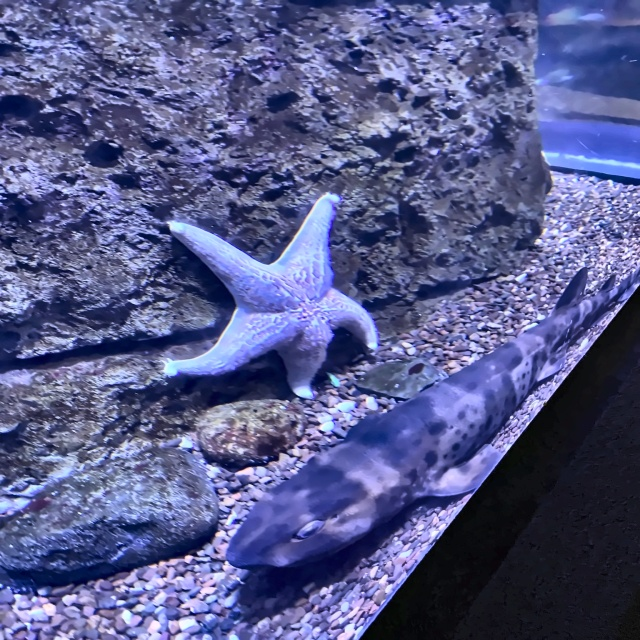shark: (229, 266, 639, 567)
starfish: (163, 193, 378, 399)
